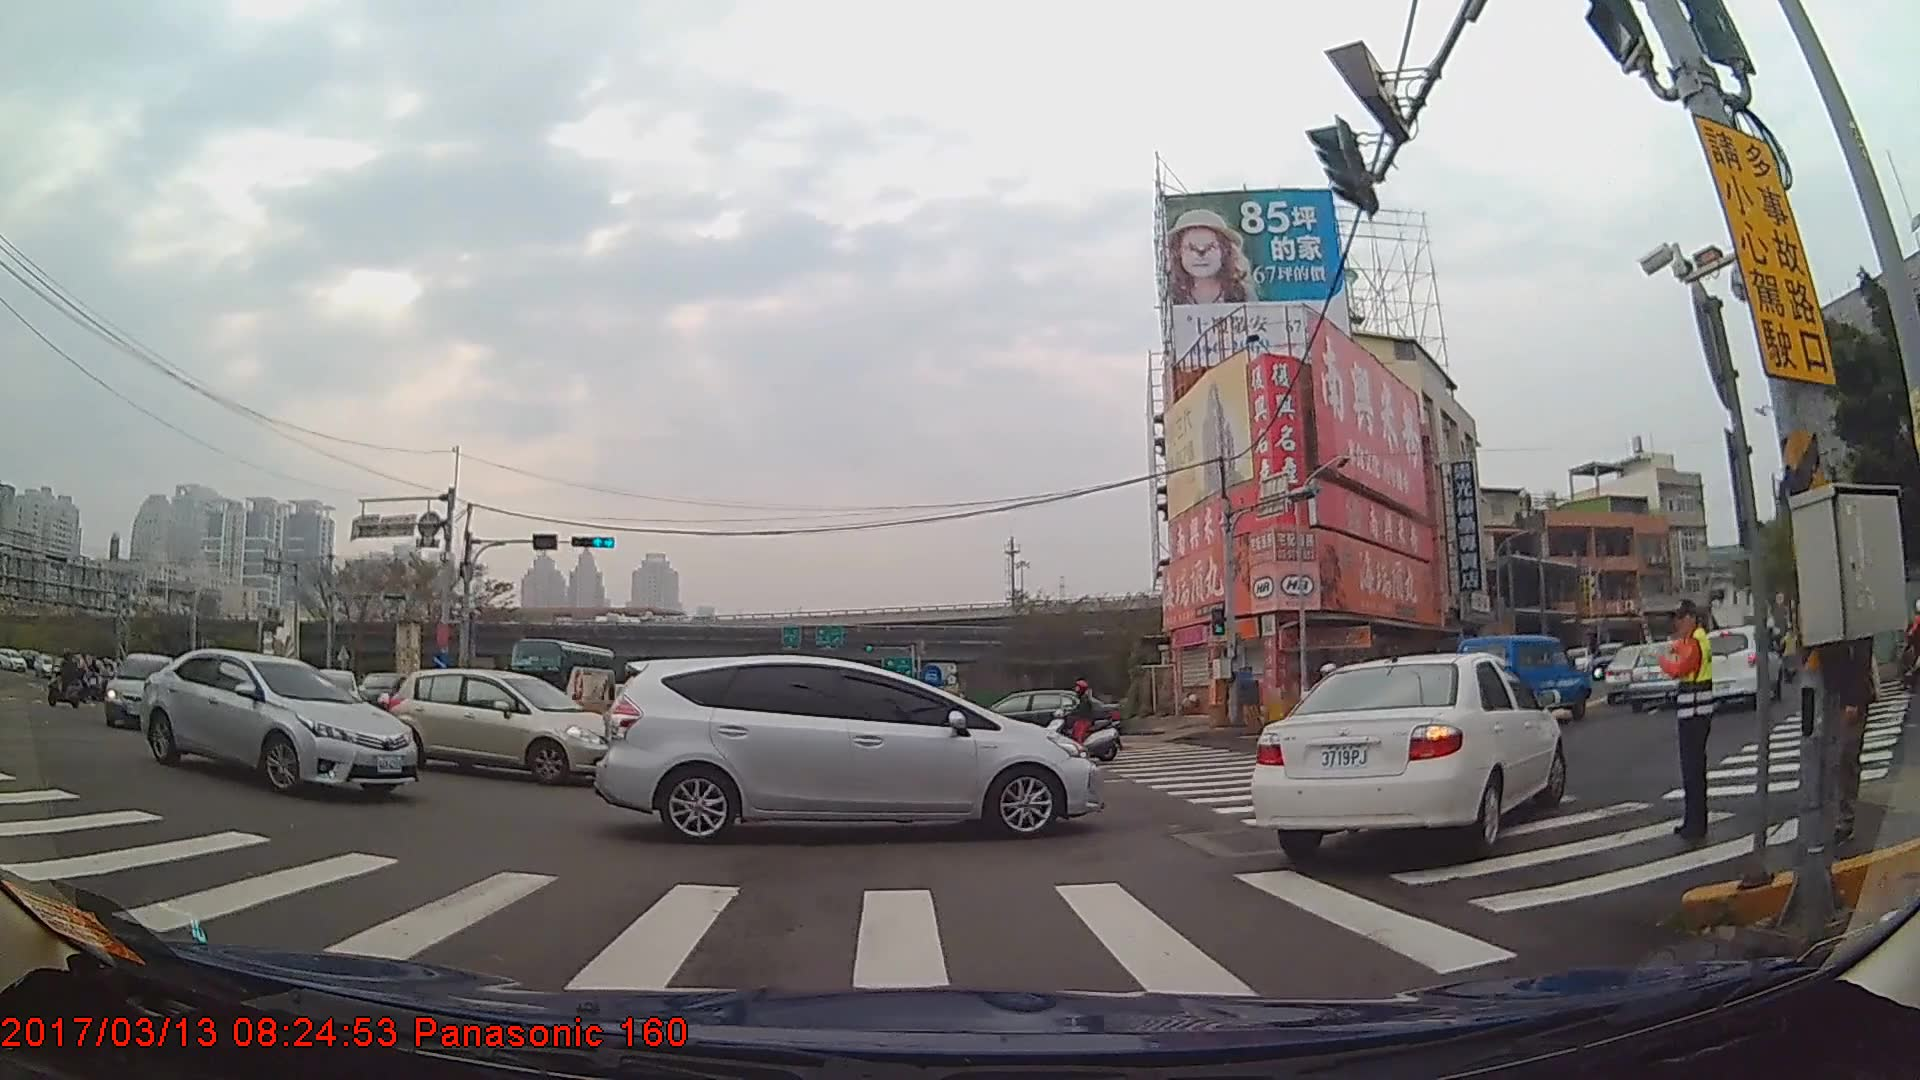pedestrian: (1796, 530, 1885, 848), (1654, 597, 1716, 848)
rider: (1037, 682, 1124, 766)
vehicle: (587, 650, 1104, 843), (1245, 648, 1568, 863), (134, 648, 418, 800), (380, 667, 620, 786), (1454, 633, 1590, 722), (957, 684, 1123, 749), (503, 635, 612, 717), (103, 653, 180, 724), (1624, 638, 1694, 713)
